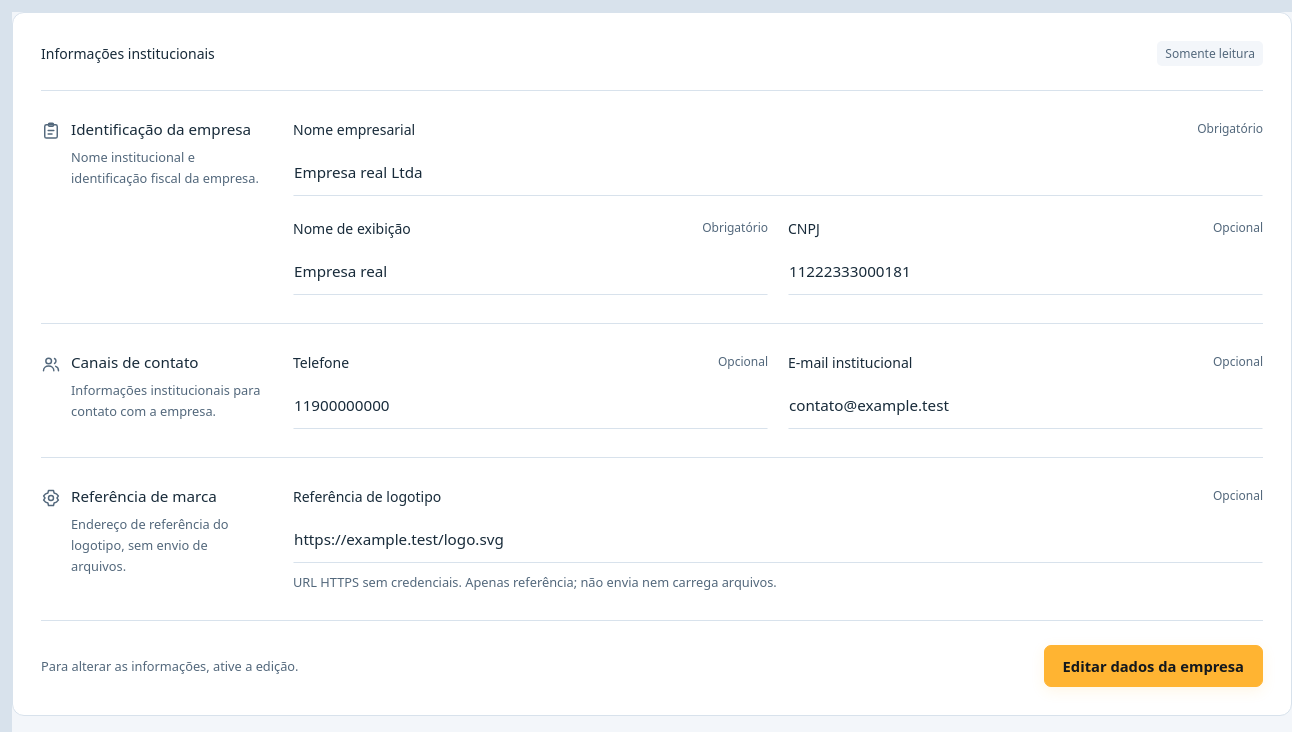
OC91: dados institucionais › falha HTTP 401 não confirma gravação
Step 1. Click the button "Editar dados da empresa" → (1153, 666), box [1044,646,1263,688]
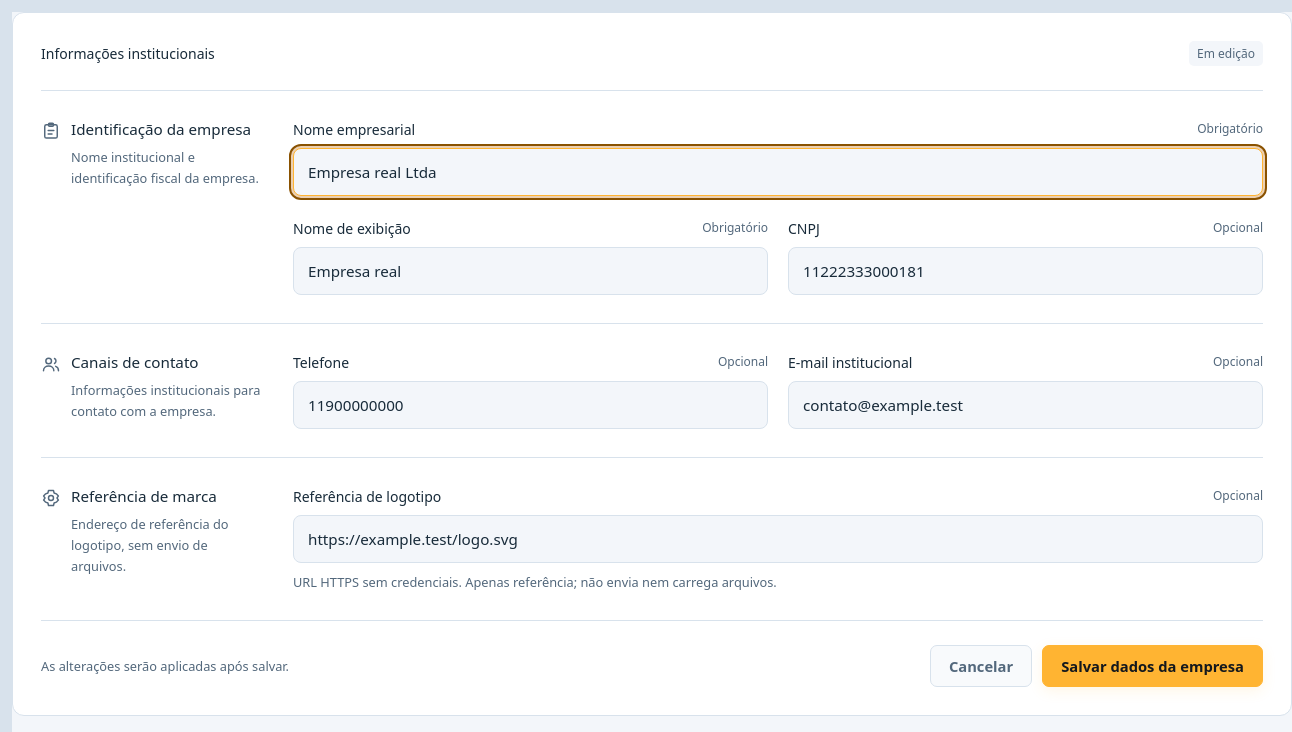
Step 2. Submit the form
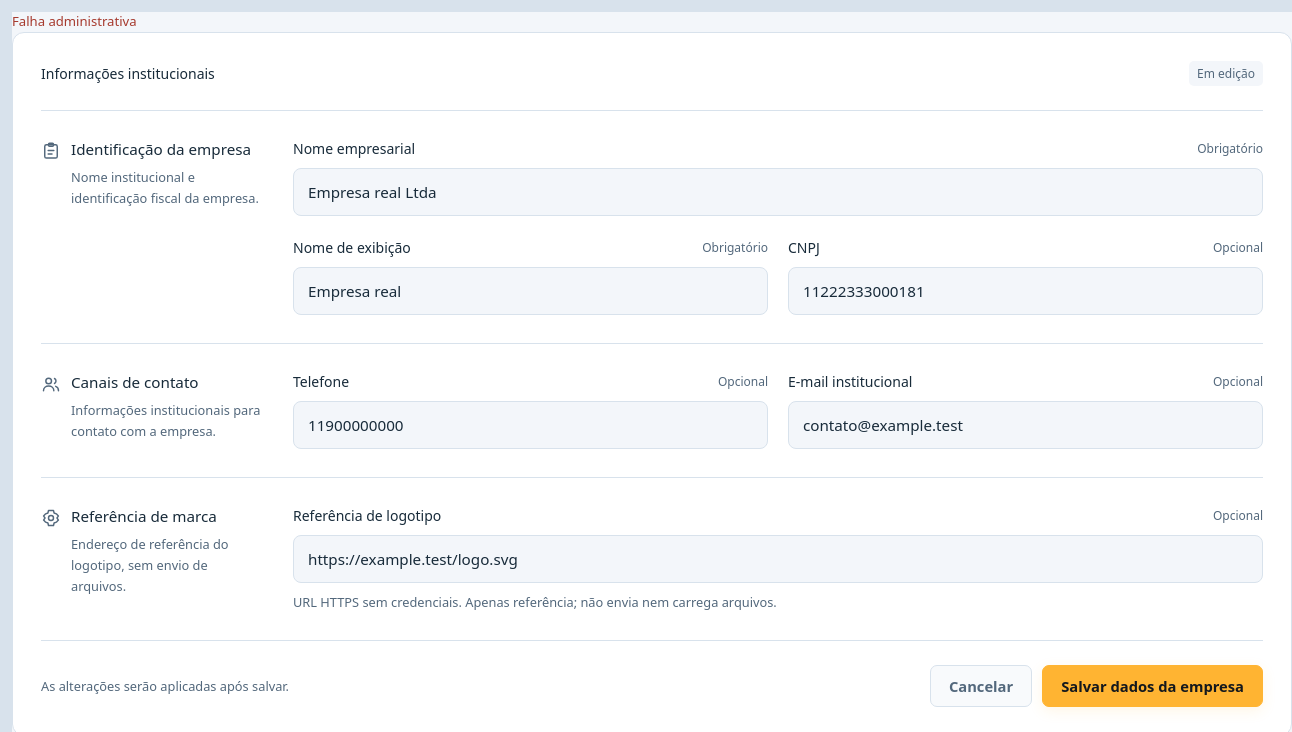
Check: the button "Cancelar" is enabled, box [930,665,1032,707]
Check: the message reads "Falha administrativa", box [12,12,137,30]
